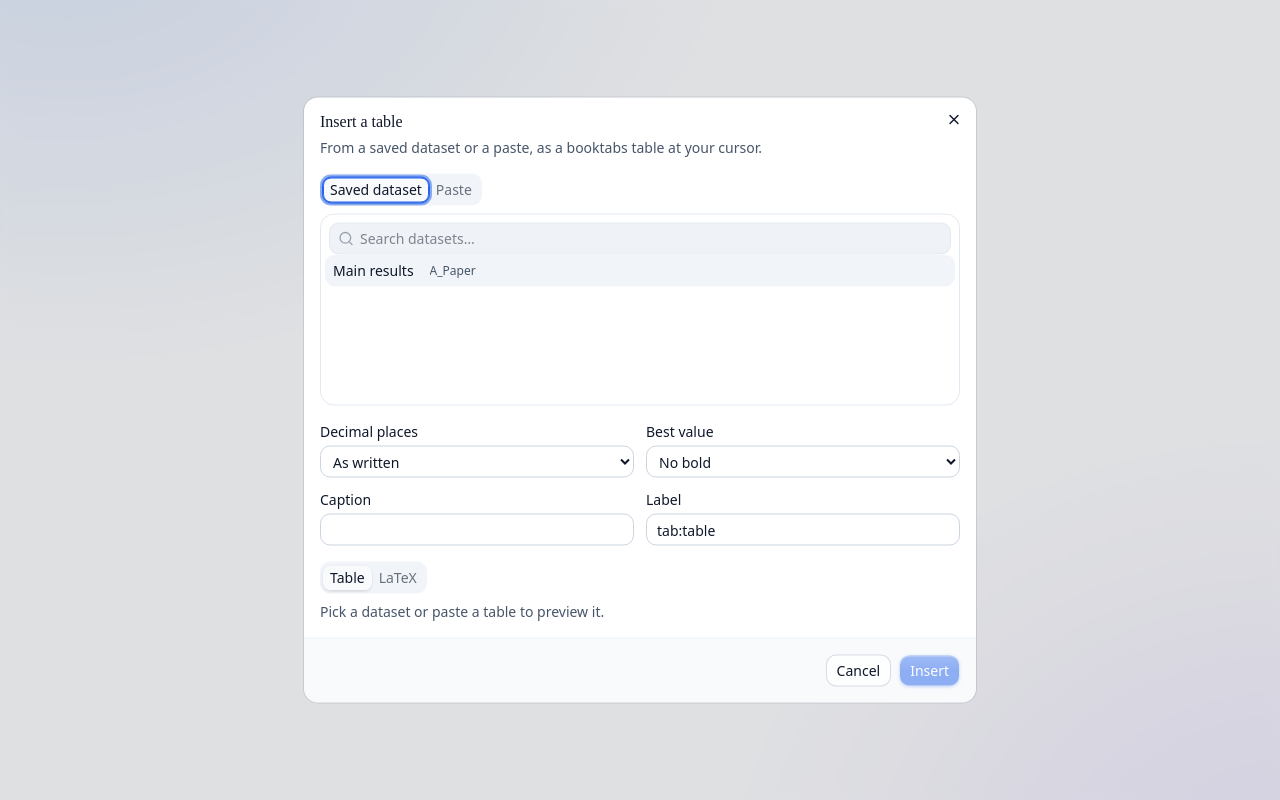
Test: a pin error other than 404 is shown and nothing is inserted
This screenshot has width=1280, height=800.
Click the option "Main results A_Paper": click(373, 270) [325,254,955,286]
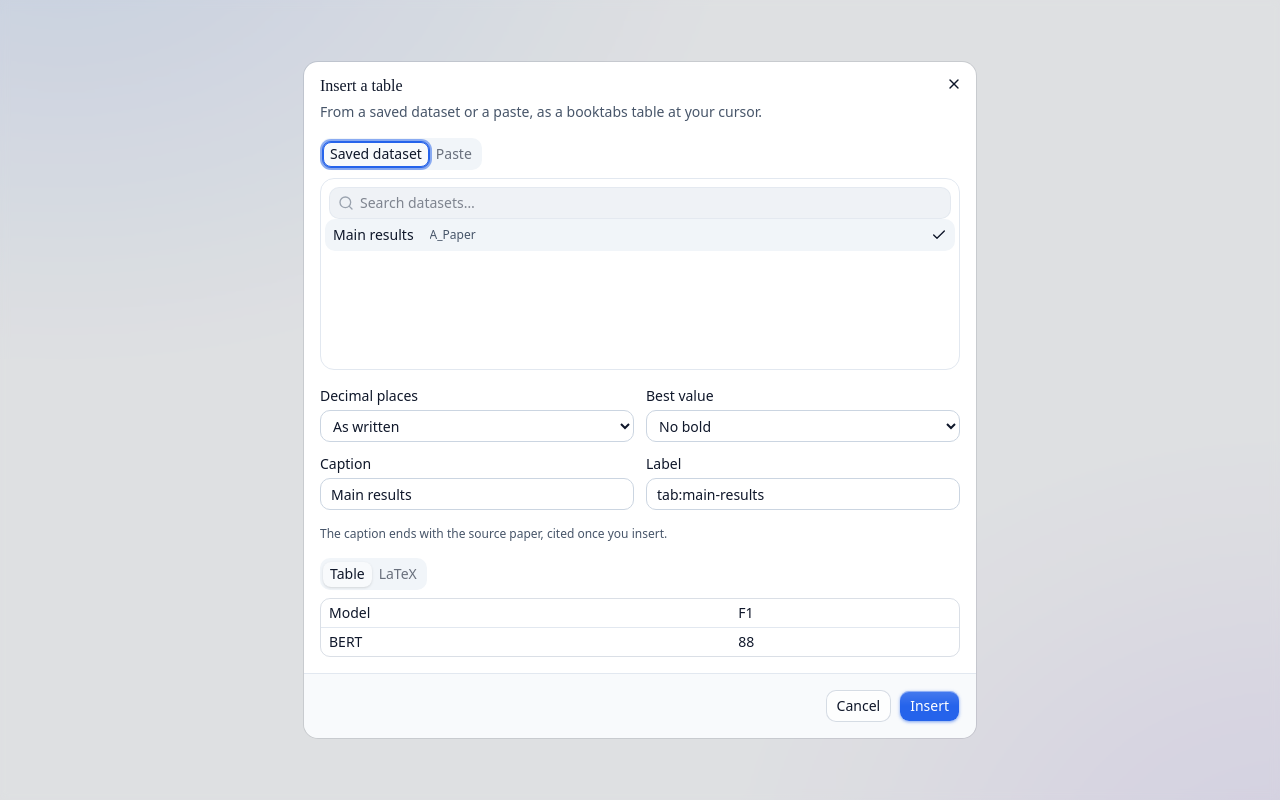
Expected: the button "Insert" is enabled
Click the button "Insert": click(930, 706) [899,690,960,722]
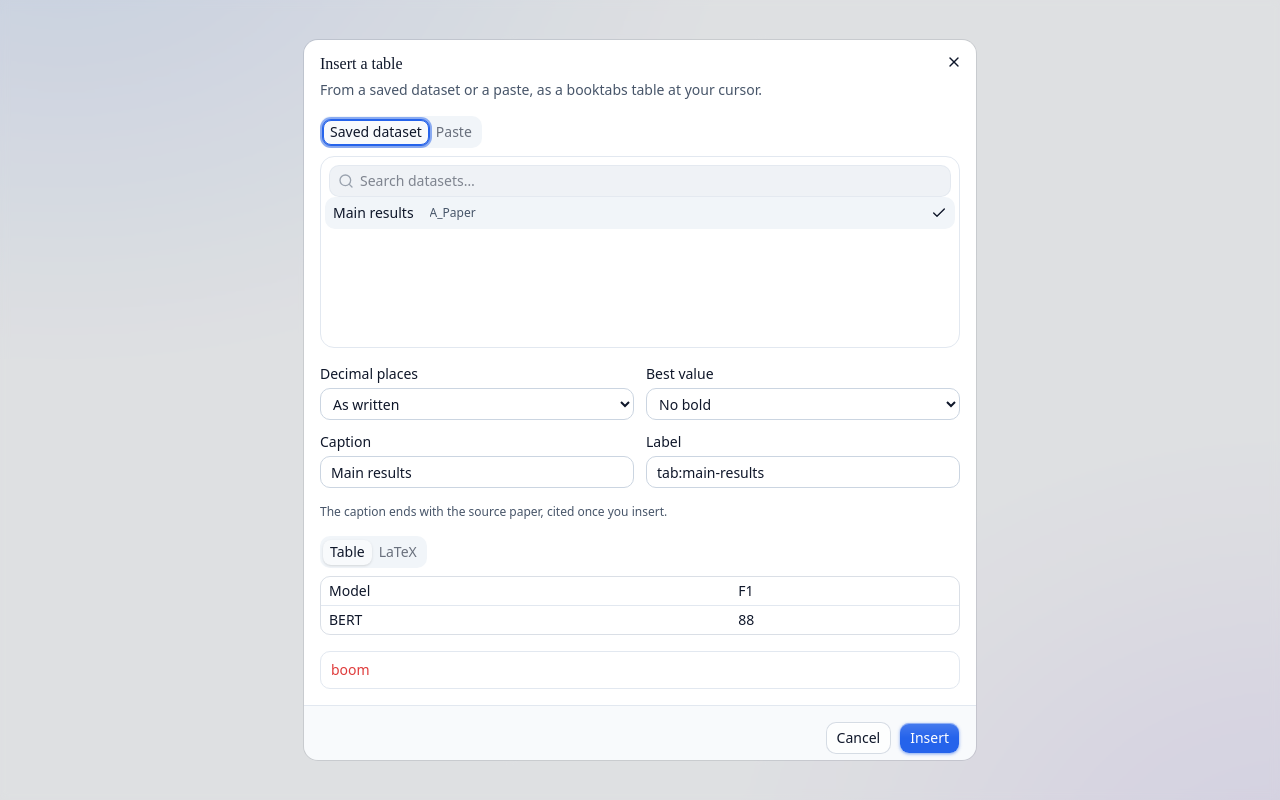
Expected: the text "boom" is shown, [331,660,370,679]
